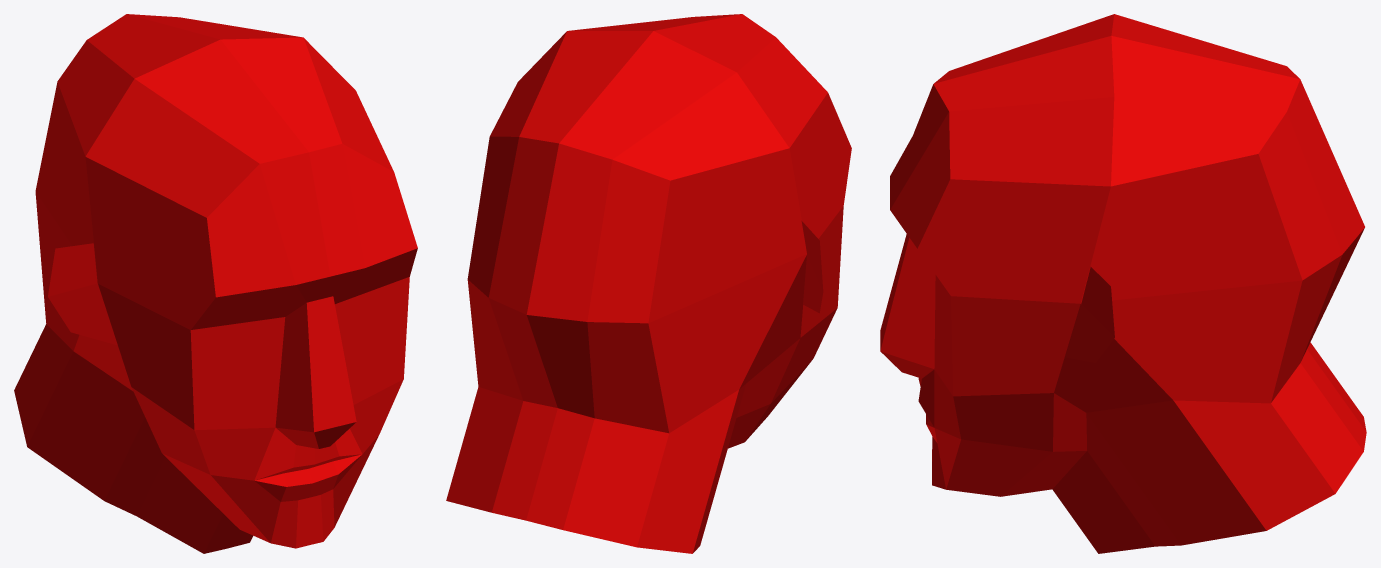
The model's file is Head_AcOrelha.fbx.
The picture shows the model from 3 angles, left to right: view 1: azimuth 30°, elevation 25°; view 2: azimuth 150°, elevation 25°; view 3: azimuth 270°, elevation 25°; orthographic projection.
Visible parts, largest first — view 1: Plane; view 2: Plane; view 3: Plane.
Boxes of the visible parts, x1,y1,x2,y2 form: Plane: [14, 14, 417, 553]; Plane: [446, 14, 851, 553]; Plane: [880, 14, 1366, 553].
Size of the model in its own units: 626 by 884 by 768.
